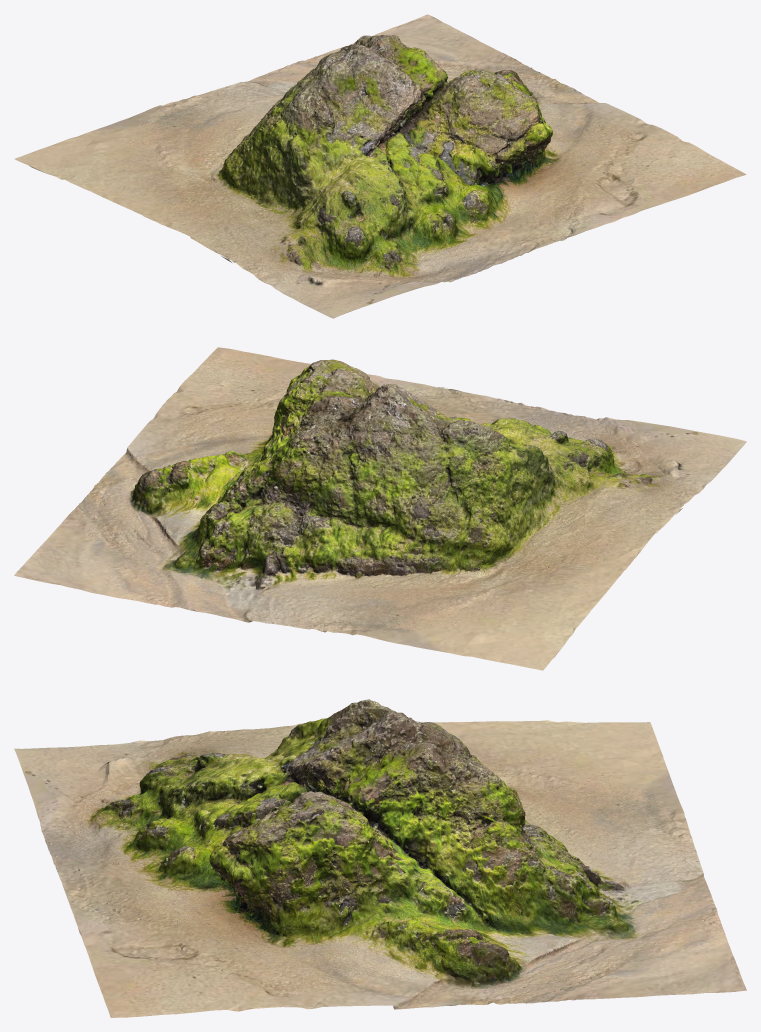
Rendered from mossy.compressed.glb.
3 views of the same model, one above another, from view 1: azimuth 30°, elevation 25°; view 2: azimuth 150°, elevation 25°; view 3: azimuth 270°, elevation 25° (orthographic). The views are drawn at different scales.
Bounding box in the file's own units: 2.22 × 0.5276 × 2.18.
1 material, 1 textured.
